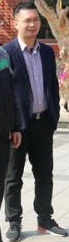boots: (5, 222, 21, 242), (0, 236, 19, 242)
vest: (34, 96, 69, 216)
